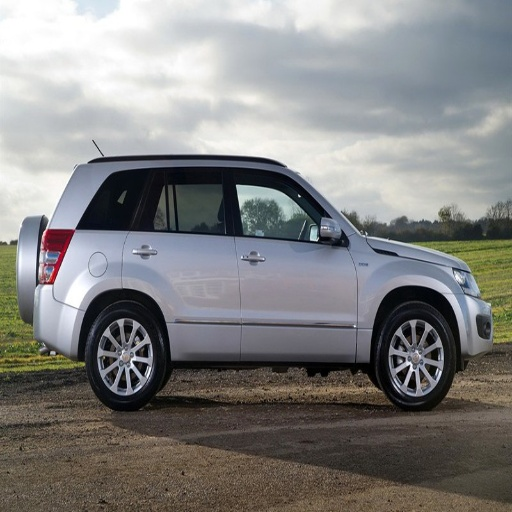back_right_door: (123, 166, 238, 355)
back_right_light: (39, 228, 72, 284)
front_right_door: (229, 166, 358, 354)
trunk: (41, 267, 92, 340)
